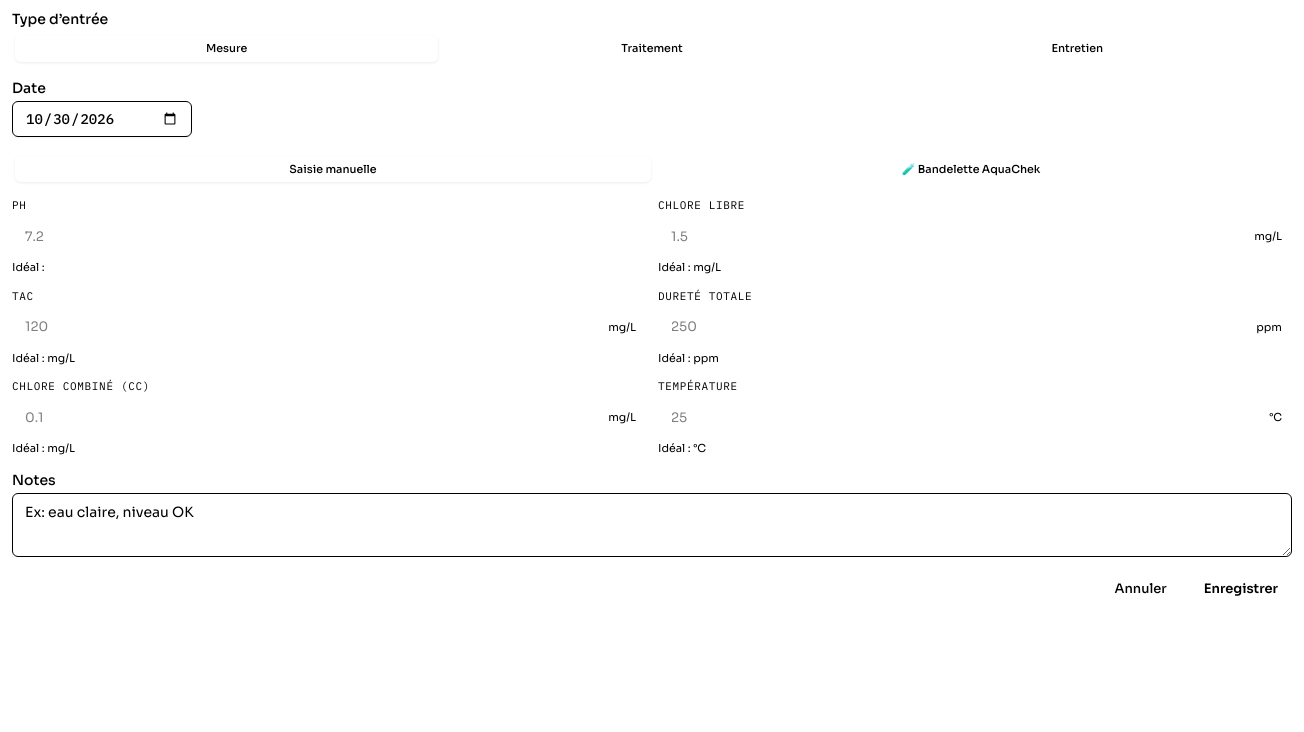
Test: ActionForm › entry kind › rejects a measurement with no value at all
This screenshot has width=1304, height=732.
Click the button "Enregistrer" at [1241, 588], box [1190,570,1292,606]
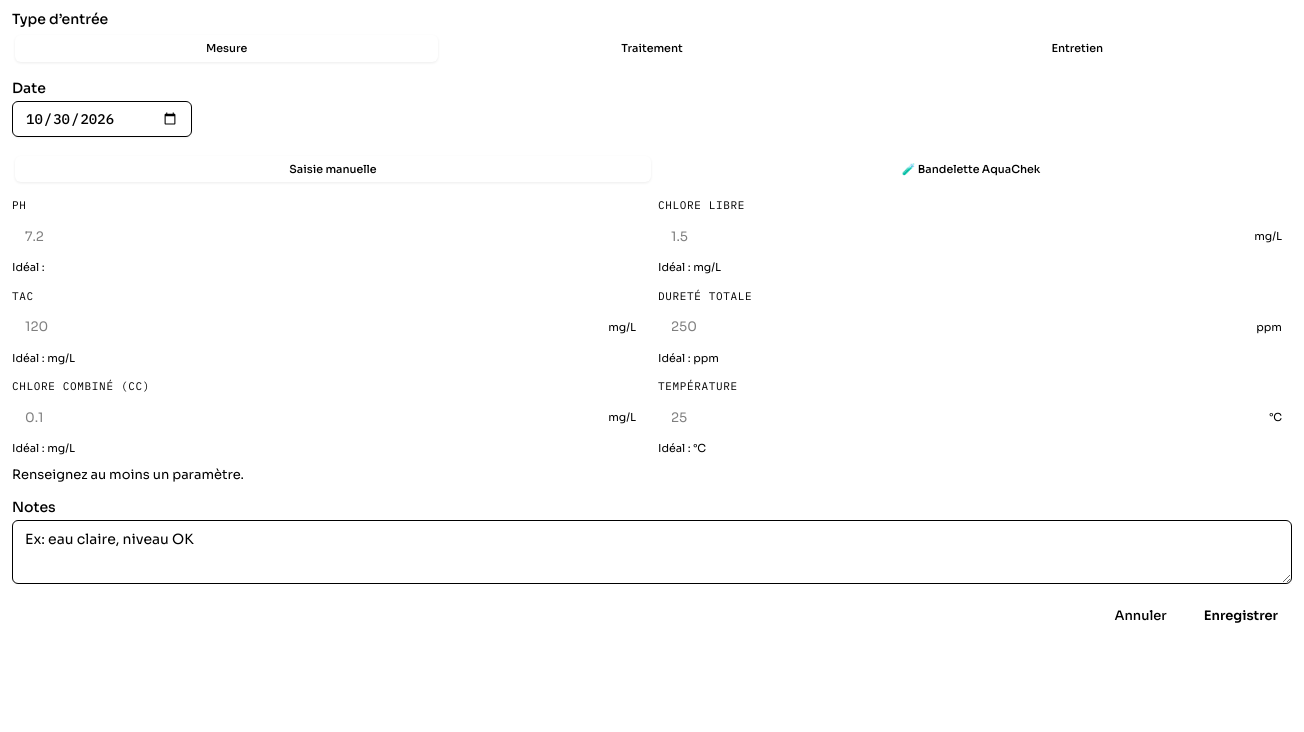
Now the text "Renseignez au moins un paramètre." is shown, box [12,466,244,482]
